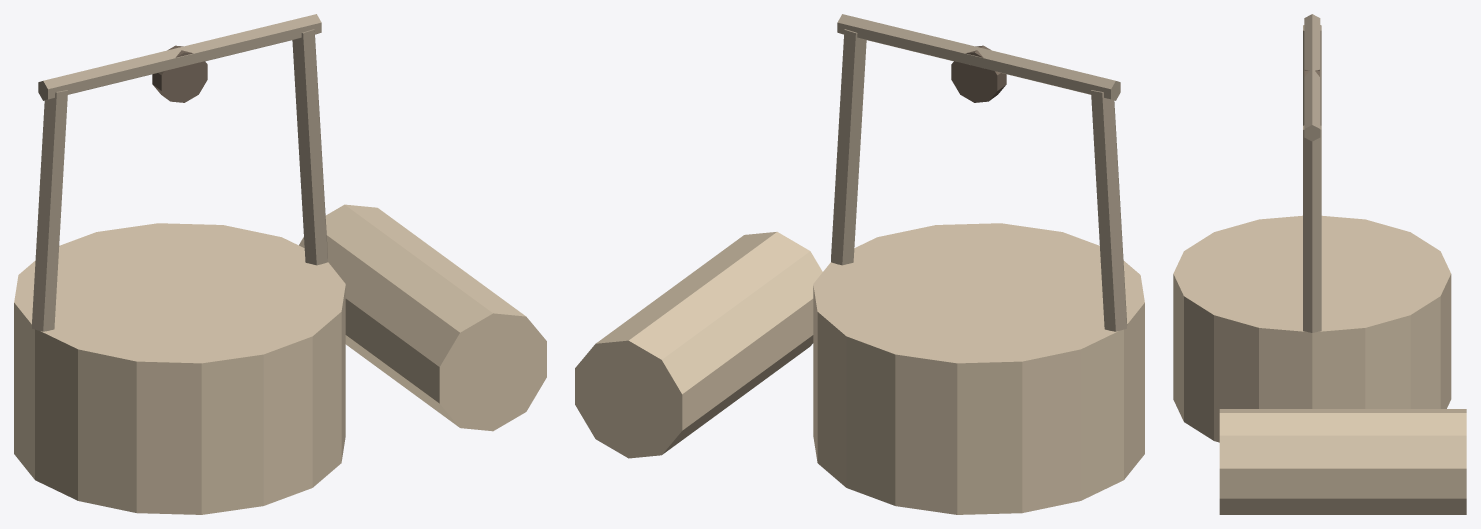
File: StoneWell.glb
The picture shows the model from 3 angles, left to right: view 1: azimuth 30°, elevation 25°; view 2: azimuth 150°, elevation 25°; view 3: azimuth 270°, elevation 25°; orthographic projection. The views are drawn at different scales.
Visible parts, largest first — view 1: Well curb, Trough, Limb.090, Limb.088, Limb.089, Pulley; view 2: Well curb, Trough, Limb.090, Limb.088, Limb.089, Pulley; view 3: Well curb, Trough, Limb.089, Limb.090, Limb.088.
Boxes of the visible parts, left/top/right/bottom form: Well curb: left=14, top=223, right=345, bottom=514; Trough: left=299, top=204, right=546, bottom=431; Limb.090: left=38, top=14, right=321, bottom=100; Limb.088: left=32, top=90, right=67, bottom=331; Limb.089: left=292, top=29, right=327, bottom=265; Pulley: left=152, top=45, right=207, bottom=102; Well curb: left=813, top=223, right=1144, bottom=514; Trough: left=575, top=232, right=822, bottom=458; Limb.090: left=837, top=14, right=1120, bottom=100; Limb.088: left=1091, top=90, right=1127, bottom=331; Limb.089: left=831, top=29, right=866, bottom=265; Pulley: left=951, top=45, right=1006, bottom=102; Well curb: left=1173, top=215, right=1451, bottom=442; Trough: left=1219, top=409, right=1466, bottom=514; Limb.089: left=1303, top=125, right=1321, bottom=332; Limb.090: left=1304, top=14, right=1320, bottom=141; Limb.088: left=1303, top=25, right=1321, bottom=125.
Size of the model in its own units: 2.85 by 2.41 by 1.9.
